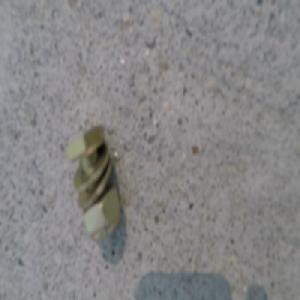BoltNutSet: (63, 121, 118, 234)
